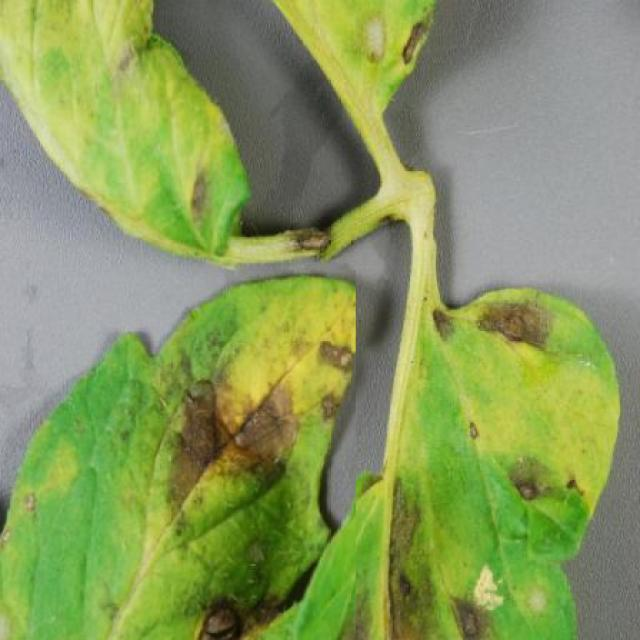Early Blight: (0, 270, 356, 640)
